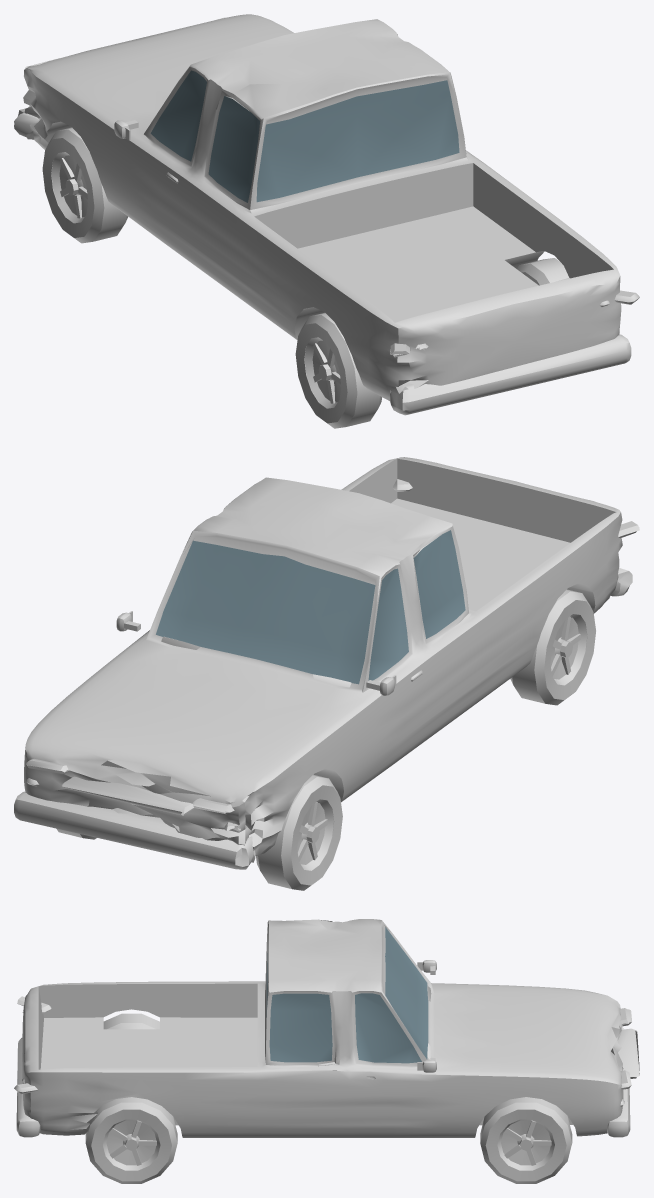
The model's file is car_pickup_dmg2.glb.
3 views of the same model, one above another, from view 1: azimuth 30°, elevation 25°; view 2: azimuth 150°, elevation 25°; view 3: azimuth 270°, elevation 25° (orthographic). The views are drawn at different scales.
Parts seen in each view (by area): view 1: car_pickup_dmg2; view 2: car_pickup_dmg2; view 3: car_pickup_dmg2.
Part boxes in pixels (x1,y1,x2,y2): car_pickup_dmg2: (14,14,639,428); car_pickup_dmg2: (14,457,639,890); car_pickup_dmg2: (14,919,639,1183).
Bounding box in the file's own units: 2.24 × 1.91 × 5.71.
